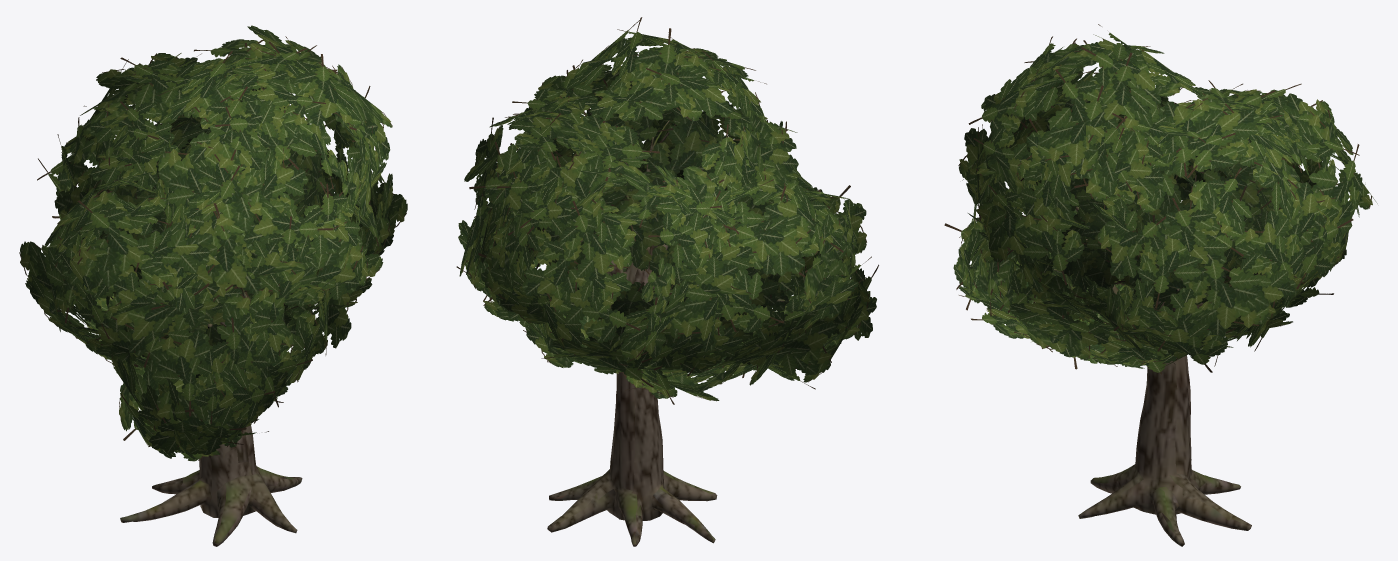
File: tree_oak.glb
3 views of the same model, side by side, from view 1: azimuth 30°, elevation 25°; view 2: azimuth 150°, elevation 25°; view 3: azimuth 270°, elevation 25° (orthographic). The views are drawn at different scales.
Parts seen in each view (by area): view 1: tree_oak; view 2: tree_oak; view 3: tree_oak.
Part boxes in pixels (<box>): tree_oak: <box>19,25,407,546</box>; tree_oak: <box>456,17,878,546</box>; tree_oak: <box>944,24,1377,546</box>.
Size of the model in its own units: 5.02 by 5.89 by 5.07.
2 materials, 2 textured.
